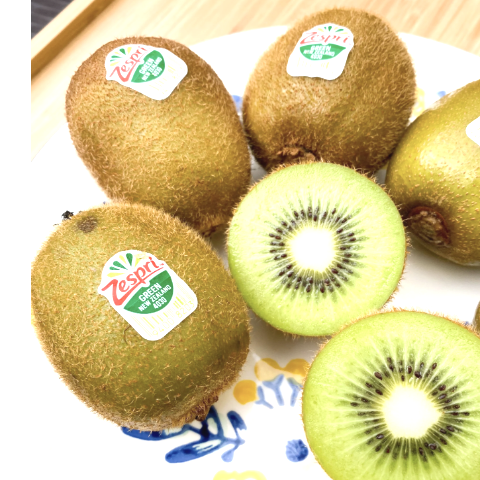kiwi: (20, 185, 277, 429), (66, 14, 248, 247), (231, 2, 434, 185)
